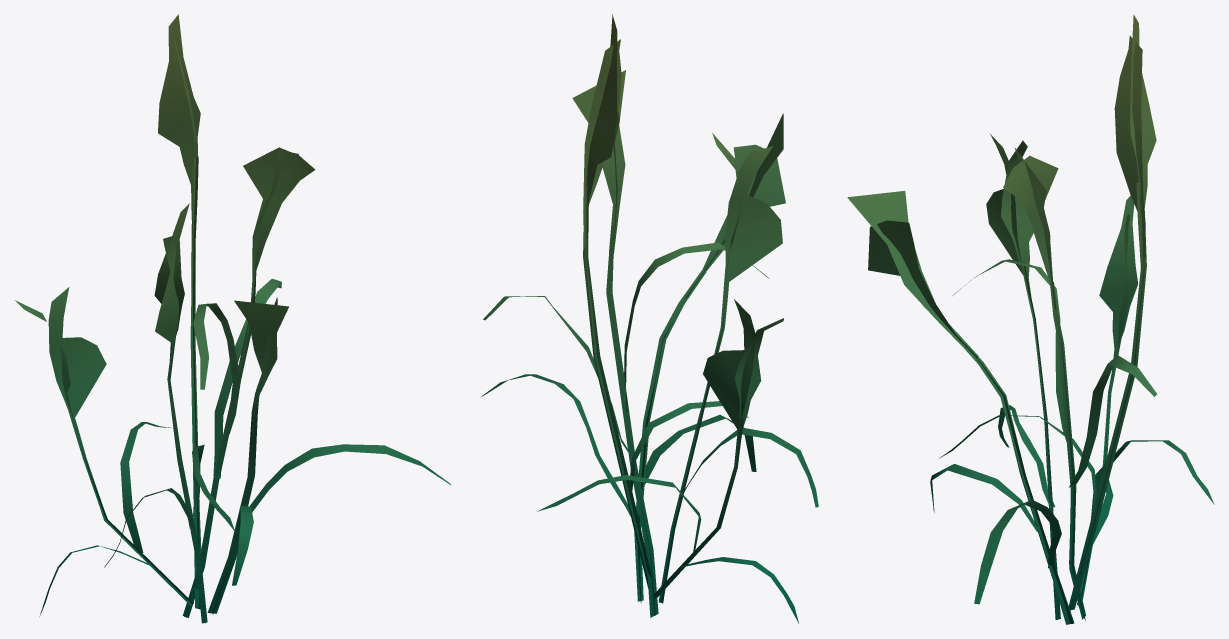
File: grass_medium_01_10.glb
3 renders of one model, left to right at view 1: azimuth 30°, elevation 25°; view 2: azimuth 150°, elevation 25°; view 3: azimuth 270°, elevation 25°, orthographic. The views are drawn at different scales.
Visible parts, largest first — view 1: grass_medium_01_tall_c_LOD0; view 2: grass_medium_01_tall_c_LOD0; view 3: grass_medium_01_tall_c_LOD0.
Part boxes in pixels (x1,y1,x2,y2): grass_medium_01_tall_c_LOD0: (15, 14, 450, 623); grass_medium_01_tall_c_LOD0: (481, 14, 818, 623); grass_medium_01_tall_c_LOD0: (847, 14, 1214, 624).
Bounding box in the file's own units: 0.153 × 0.2363 × 0.1282.
